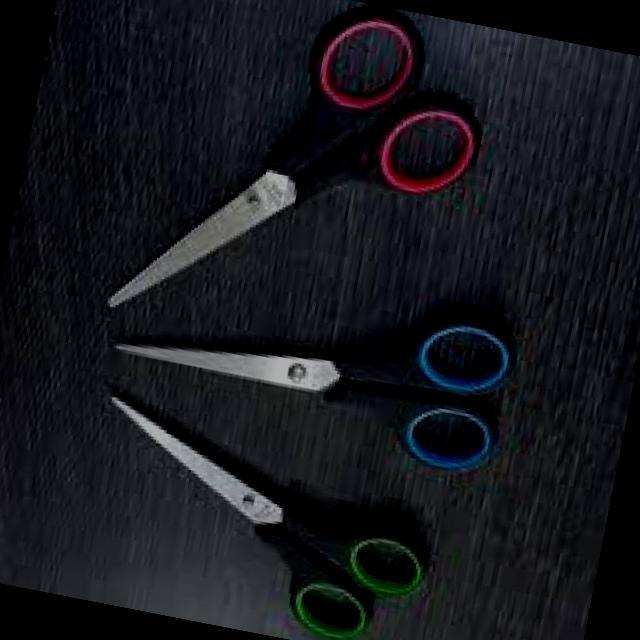Scissors: (82, 0, 505, 384), (95, 237, 545, 498), (56, 381, 452, 640)
